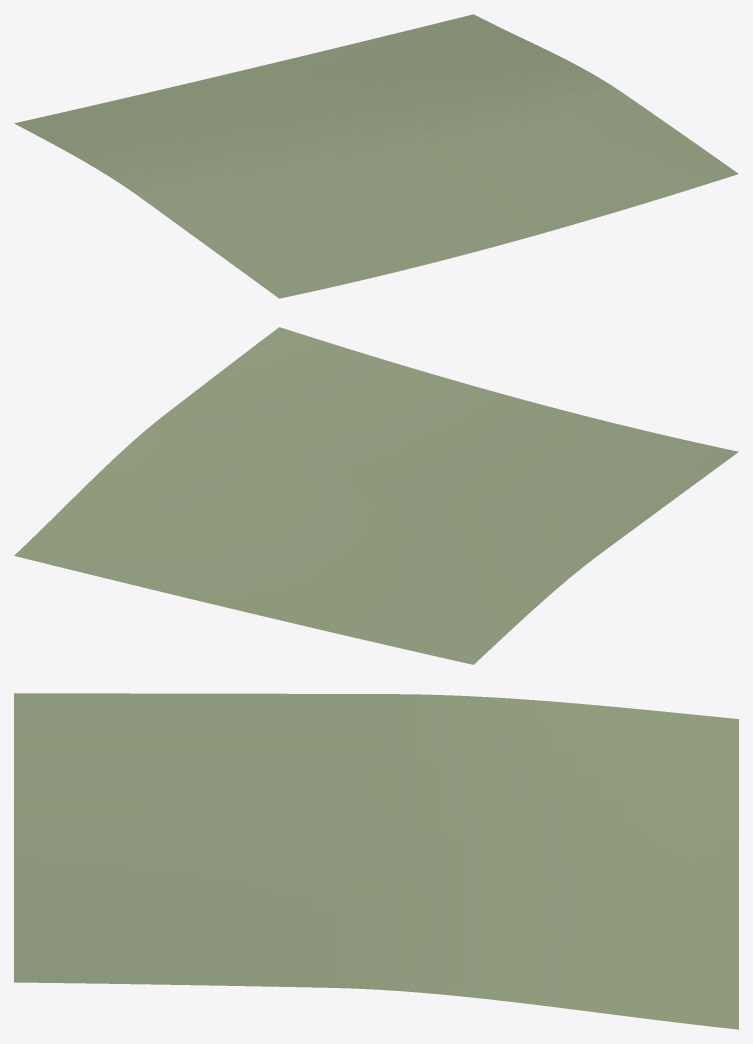
Rendered from valley-13-9.glb.
3 views of the same model, one above another, from view 1: azimuth 30°, elevation 25°; view 2: azimuth 150°, elevation 25°; view 3: azimuth 270°, elevation 25° (orthographic). The views are drawn at different scales.
Visible parts, largest first — view 1: valley-13-9; view 2: valley-13-9; view 3: valley-13-9.
Part boxes in pixels (x1,y1,x2,y2): valley-13-9: (14, 14, 738, 298); valley-13-9: (14, 327, 738, 664); valley-13-9: (14, 693, 738, 1029).
Bounding box in the file's own units: 256 × 18.48 × 256.
